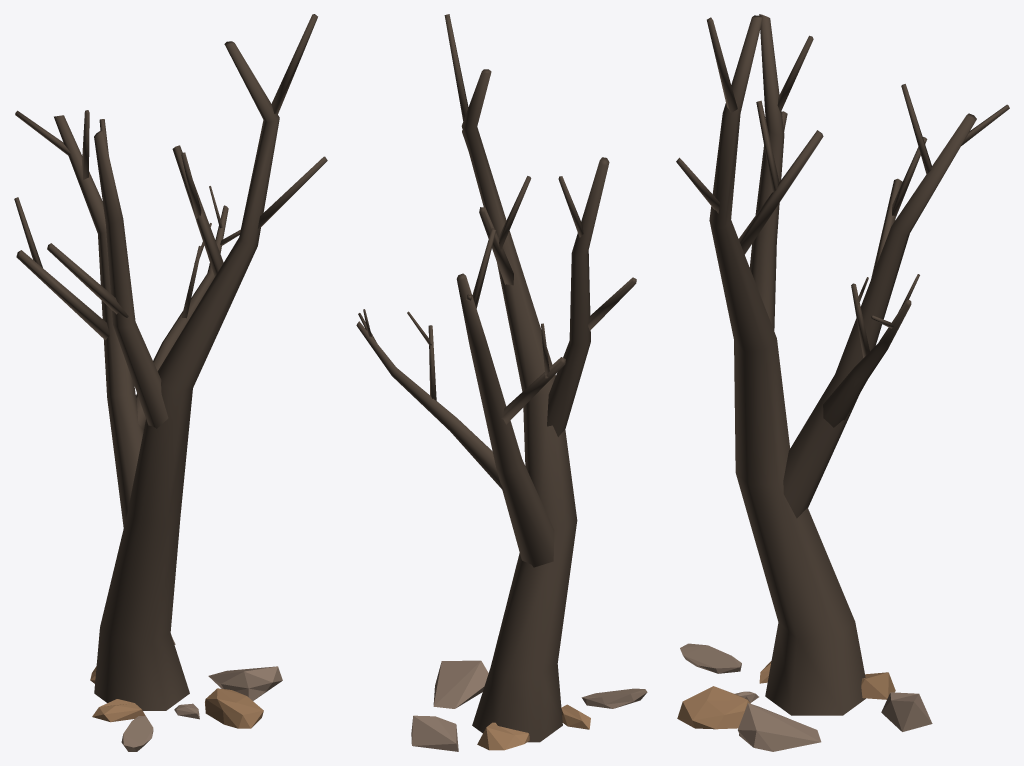
Rendered from Tree 1.glb.
3 renders of one model, left to right at view 1: azimuth 30°, elevation 25°; view 2: azimuth 150°, elevation 25°; view 3: azimuth 270°, elevation 25°, orthographic. The views are drawn at different scales.
Visible parts, largest first — view 1: Tree 1; view 2: Tree 1; view 3: Tree 1.
Boxes of the visible parts, <box> form: Tree 1: <box>14,14,327,751</box>; Tree 1: <box>356,14,647,751</box>; Tree 1: <box>676,14,1009,751</box>.
Size of what is drawn, in the model's own units: 2.97 by 7.72 by 3.14.
Materials: 1 (1 with a texture image).
